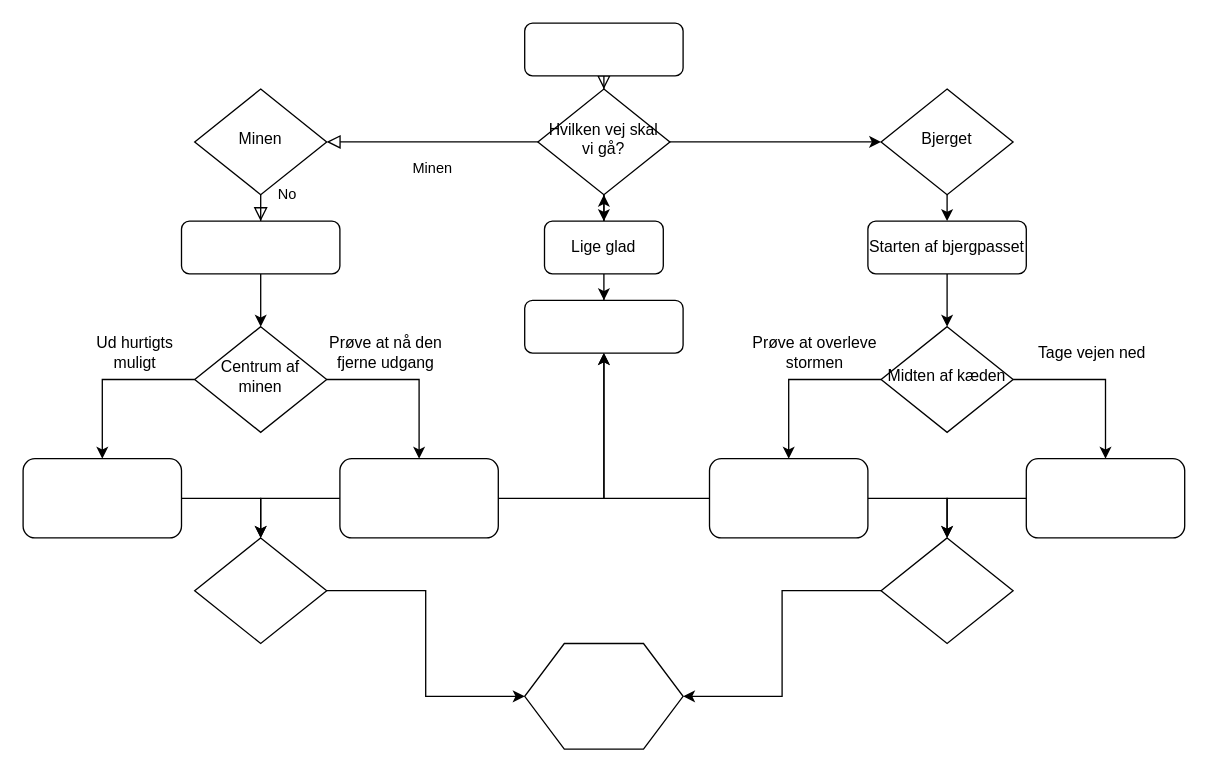
The diagram is 1208 pixels wide and 772 high, and some of its shapes have lost their labels. The shapes that lost their labels are listed below. From the top down, each one's box as (x1, y1, x2, y2) in pixels, then its label:
(523, 22, 683, 76): Start
(180, 220, 340, 274): Udfordringer ved ingangen
(523, 299, 683, 353): Gameover
